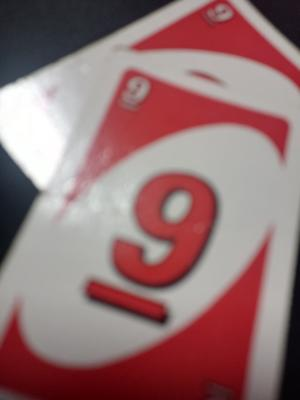num_9: (79, 161, 225, 334), (109, 66, 156, 114)
